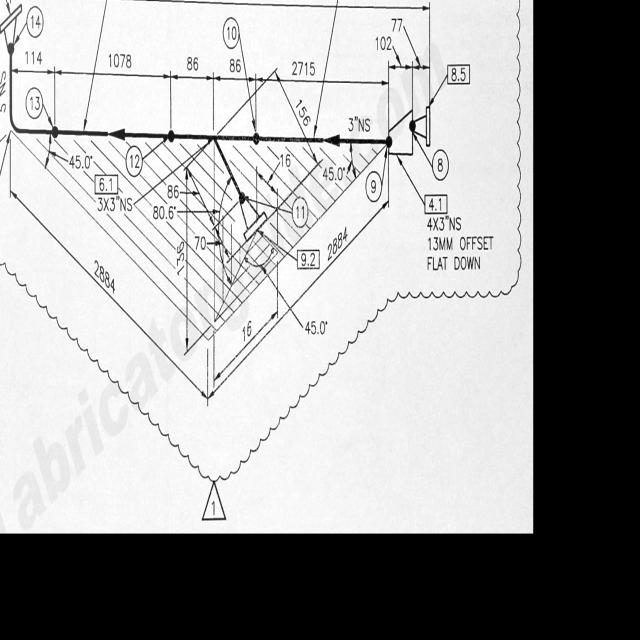Item number: (446, 61, 471, 87), (296, 247, 321, 271), (424, 192, 448, 215), (94, 173, 118, 195)
Measrement: (208, 197, 387, 408), (10, 174, 192, 374), (207, 292, 281, 409), (268, 55, 389, 89), (56, 48, 170, 82), (269, 60, 313, 131), (167, 53, 251, 84), (253, 142, 310, 186), (392, 14, 428, 71), (47, 132, 94, 175), (12, 48, 54, 78), (320, 156, 357, 185), (345, 112, 372, 136), (1, 65, 10, 115)
Pipeline: (2, 70, 378, 185)
Symbol: (236, 187, 267, 242), (1, 1, 22, 59), (407, 104, 432, 149), (108, 122, 128, 148)
Weld number: (24, 84, 44, 120), (364, 169, 384, 205), (222, 14, 241, 51), (124, 142, 144, 177), (26, 3, 44, 40), (290, 195, 309, 230), (432, 147, 450, 182)
other: (425, 213, 493, 273)
